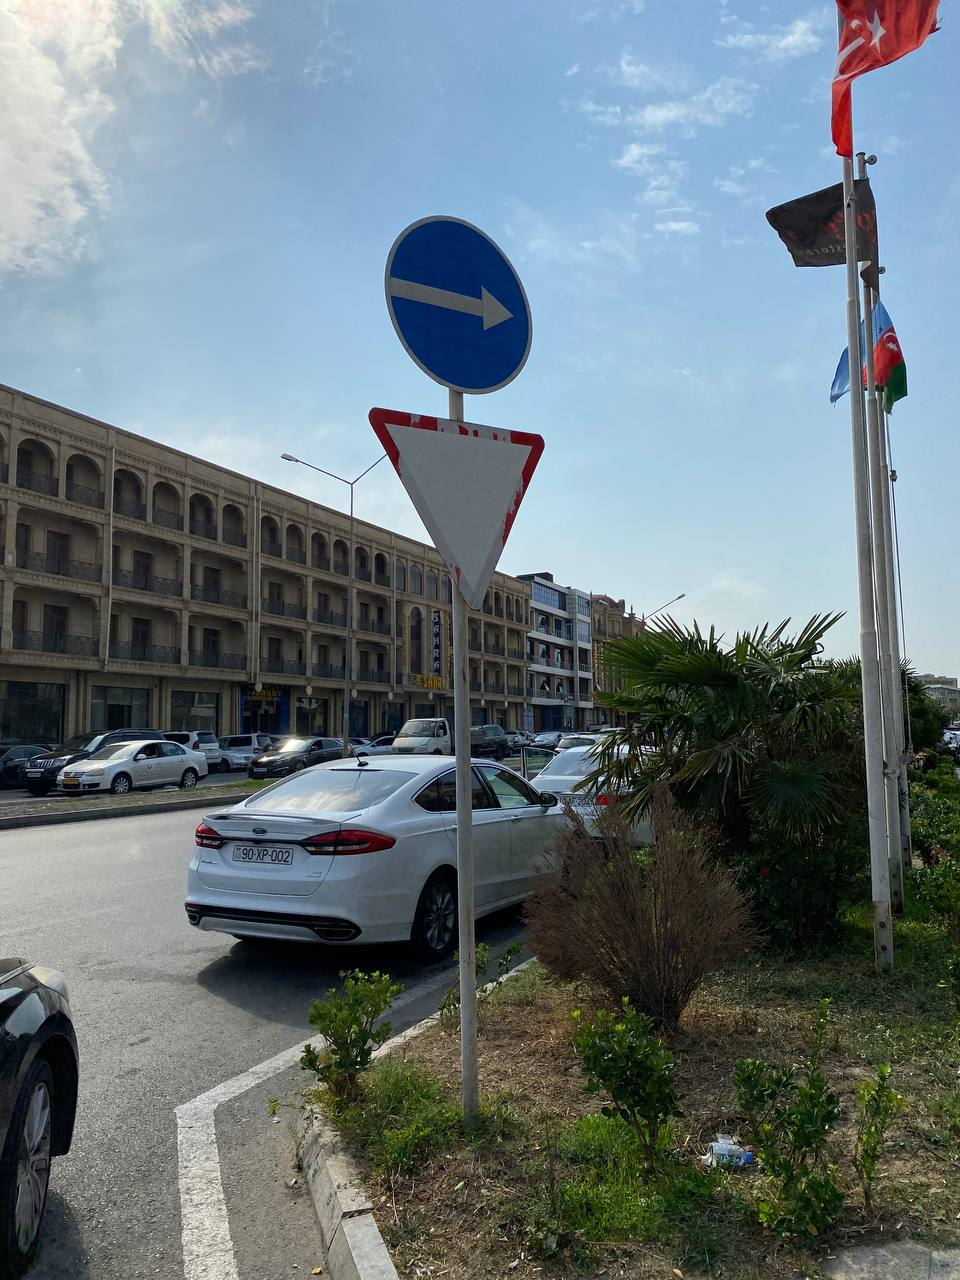Turn Right: (384, 215, 533, 395)
